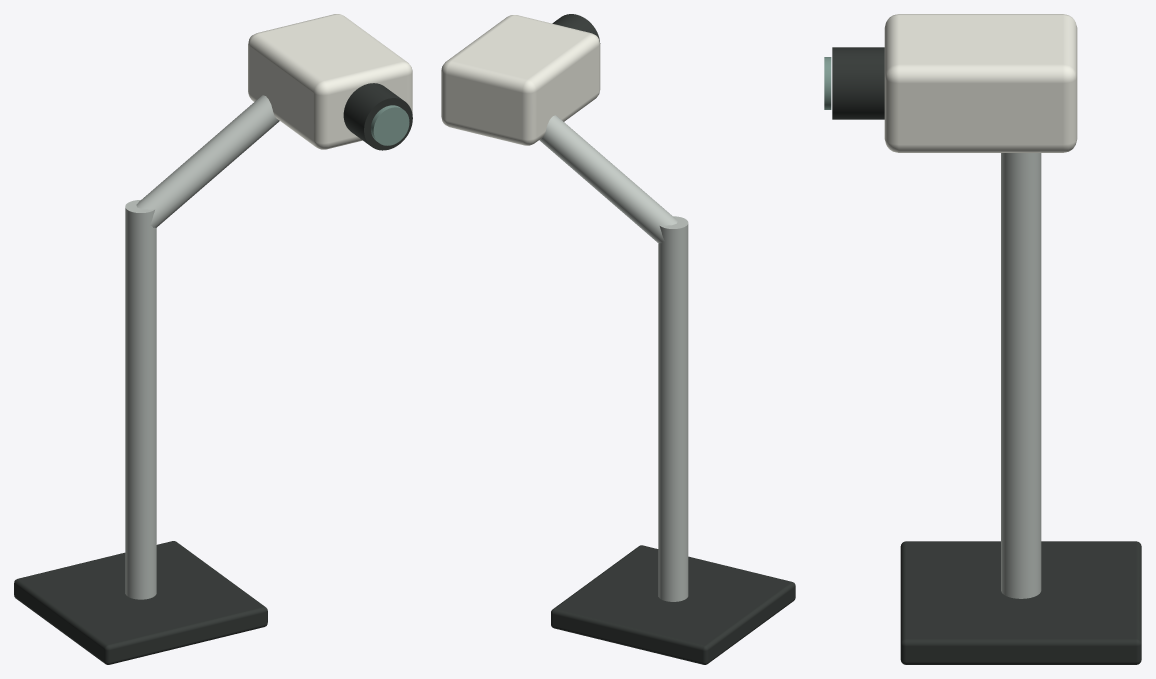
File: camera-arm.glb
3 renders of one model, left to right at view 1: azimuth 30°, elevation 25°; view 2: azimuth 150°, elevation 25°; view 3: azimuth 270°, elevation 25°, orthographic. The views are drawn at different scales.
Visible parts, largest first — view 1: observation-camera-arm; view 2: observation-camera-arm; view 3: observation-camera-arm.
Part boxes in pixels (x1,y1,x2,y2): observation-camera-arm: (14, 14, 412, 664); observation-camera-arm: (441, 14, 795, 664); observation-camera-arm: (824, 14, 1141, 664).
Bounding box in the file's own units: 0.56 × 0.94 × 0.395.
